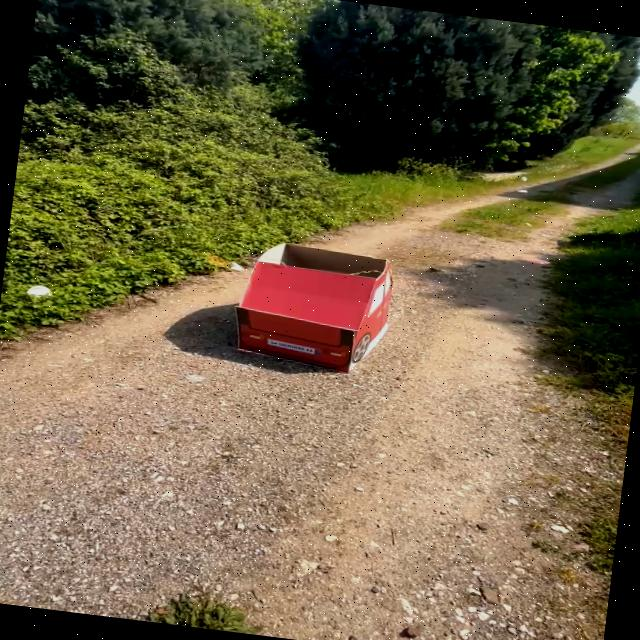red_car: (206, 226, 418, 386)
